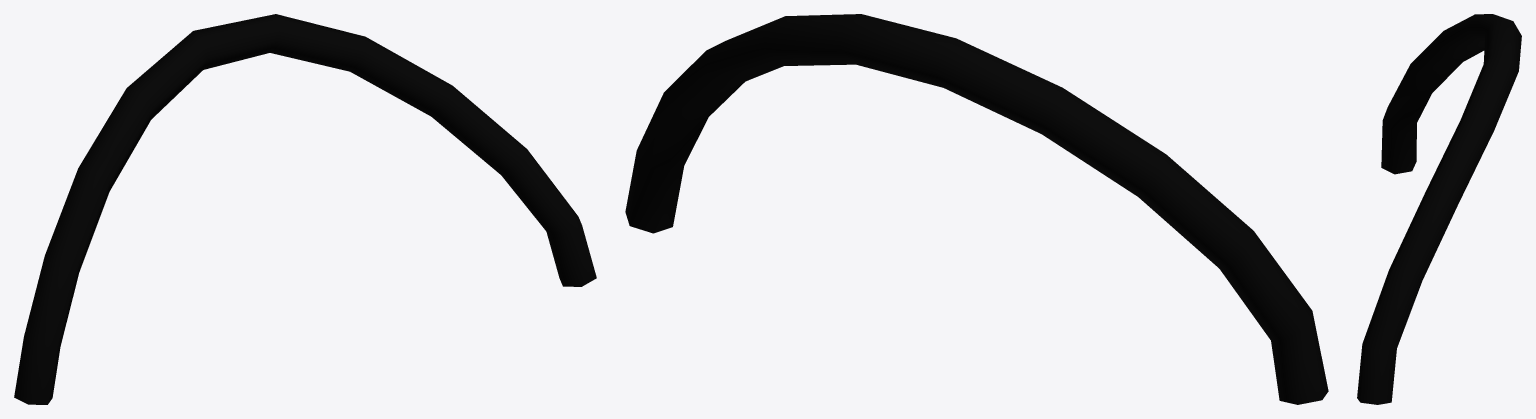
The model's file is SM_Stage_Final_Wire_character_01.fbx.
3 views of the same model, side by side, from view 1: azimuth 30°, elevation 25°; view 2: azimuth 150°, elevation 25°; view 3: azimuth 270°, elevation 25° (orthographic). The views are drawn at different scales.
Parts seen in each view (by area): view 1: SM_Stage_Final_Wire_character_01; view 2: SM_Stage_Final_Wire_character_01; view 3: SM_Stage_Final_Wire_character_01.
Part boxes in pixels (x1=…): SM_Stage_Final_Wire_character_01: x1=14, y1=14, x2=596, y2=404; SM_Stage_Final_Wire_character_01: x1=625, y1=14, x2=1328, y2=404; SM_Stage_Final_Wire_character_01: x1=1357, y1=14, x2=1521, y2=404.
Size of the model in its own units: 32.24 by 14.74 by 8.96.
Materials: 1 (1 with a texture image).
